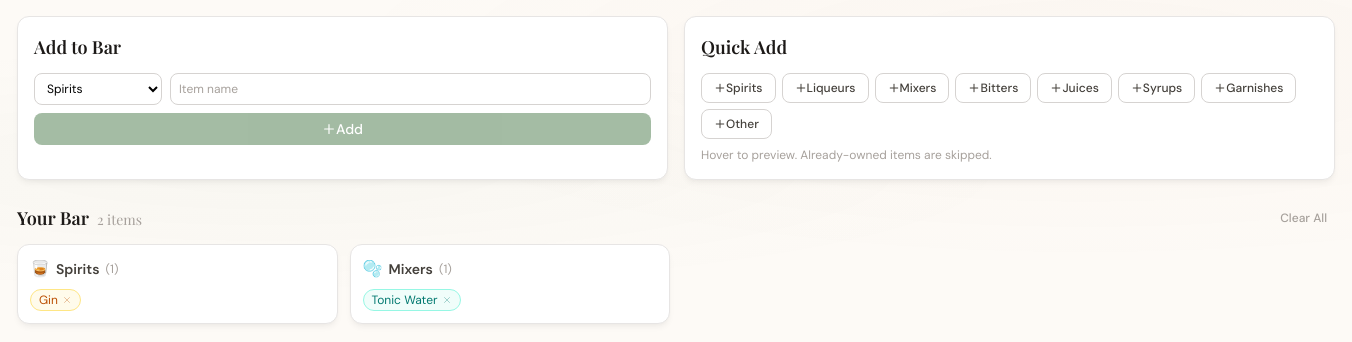
it: BarInventory › delete: clicking × on a tile removes the item via DELETE and refetches
Check: the text "Gin" is shown, box [30,289,81,311]
Click the button named "Remove Gin" at {"x": 67, "y": 300}, box [62,295,72,305]
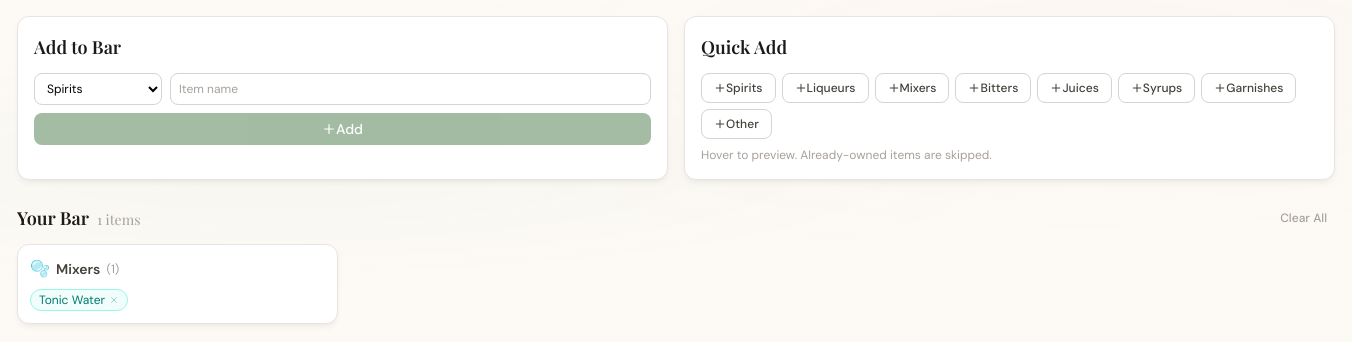
Check: the text "Tonic Water" is shown, box [30,289,128,311]
Check: the text "Gin" is gone
